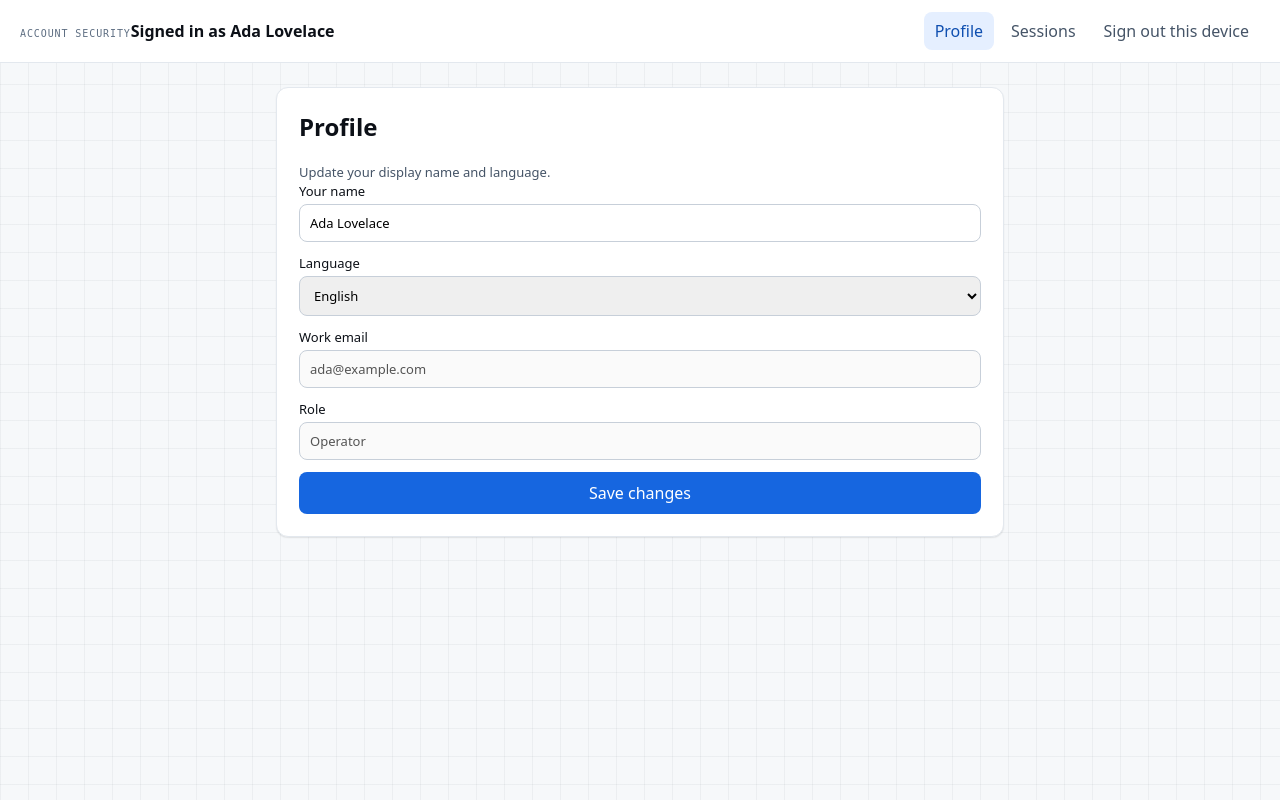
Test: AccountShell › surfaces a profile conflict instead of overwriting a newer change
Replace the text in the field labelled "Your name" with "Ada L." at (640, 223), box [299,204,981,242]
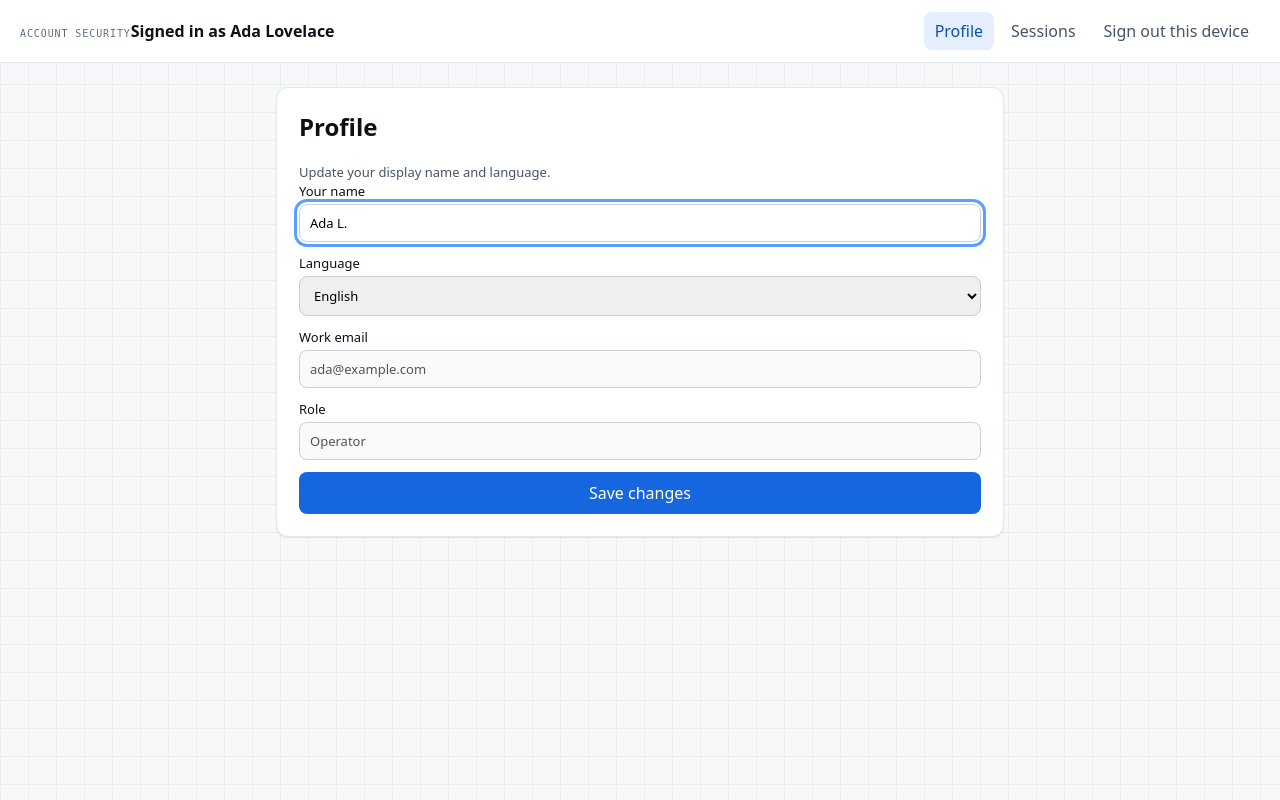
Click the button "Save changes" at (640, 493), box [299,472,981,514]
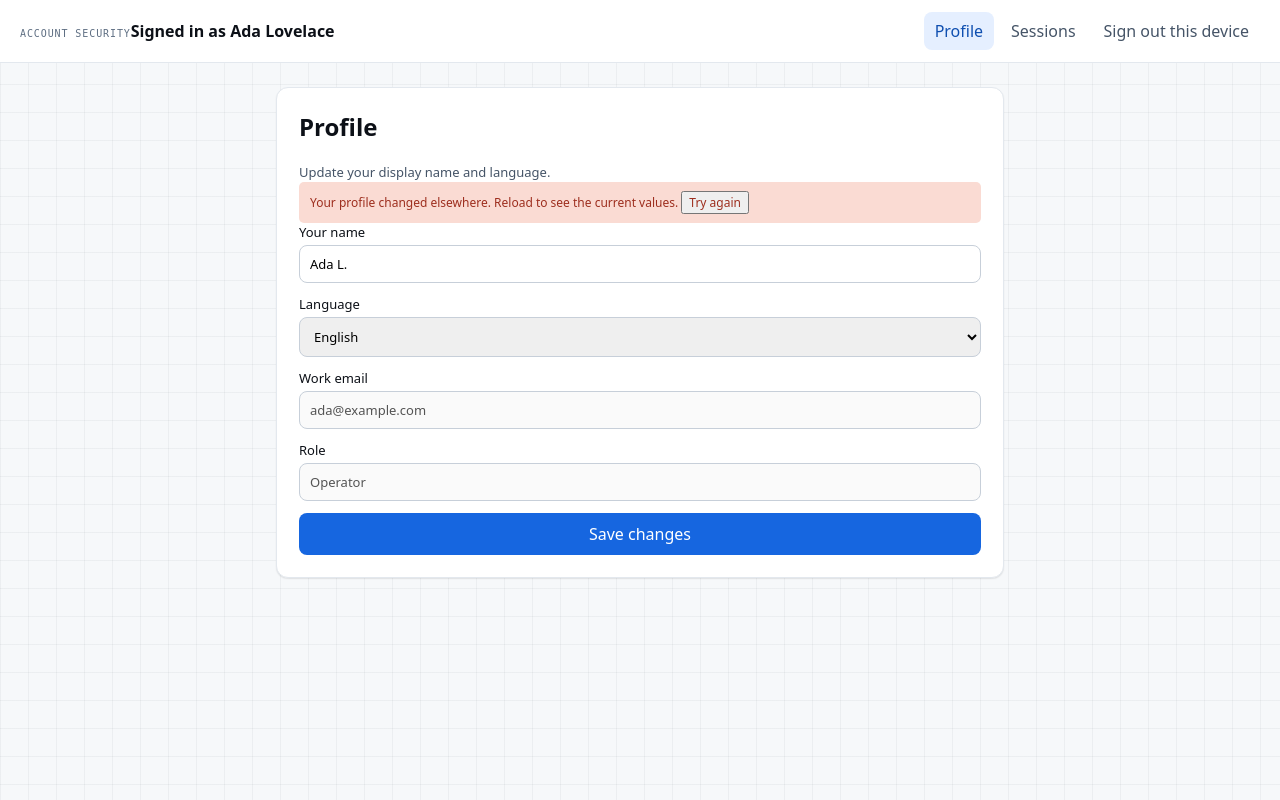
Now the message shows "Your profile changed elsewhere. Reload to see the current values.", box [310,194,678,211]
